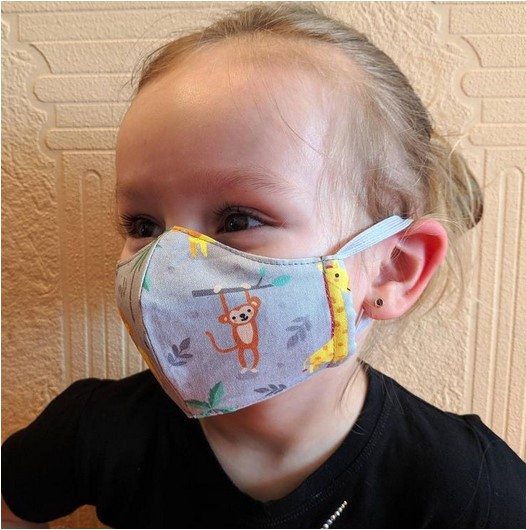face_with_mask: (103, 10, 468, 418)
